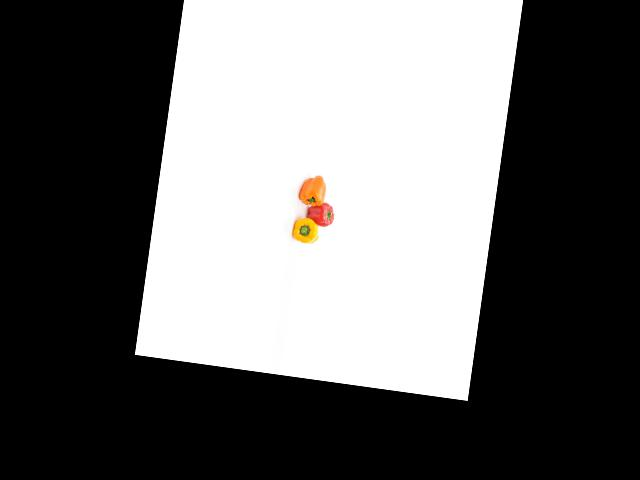bell_pepper: (290, 212, 322, 246)
